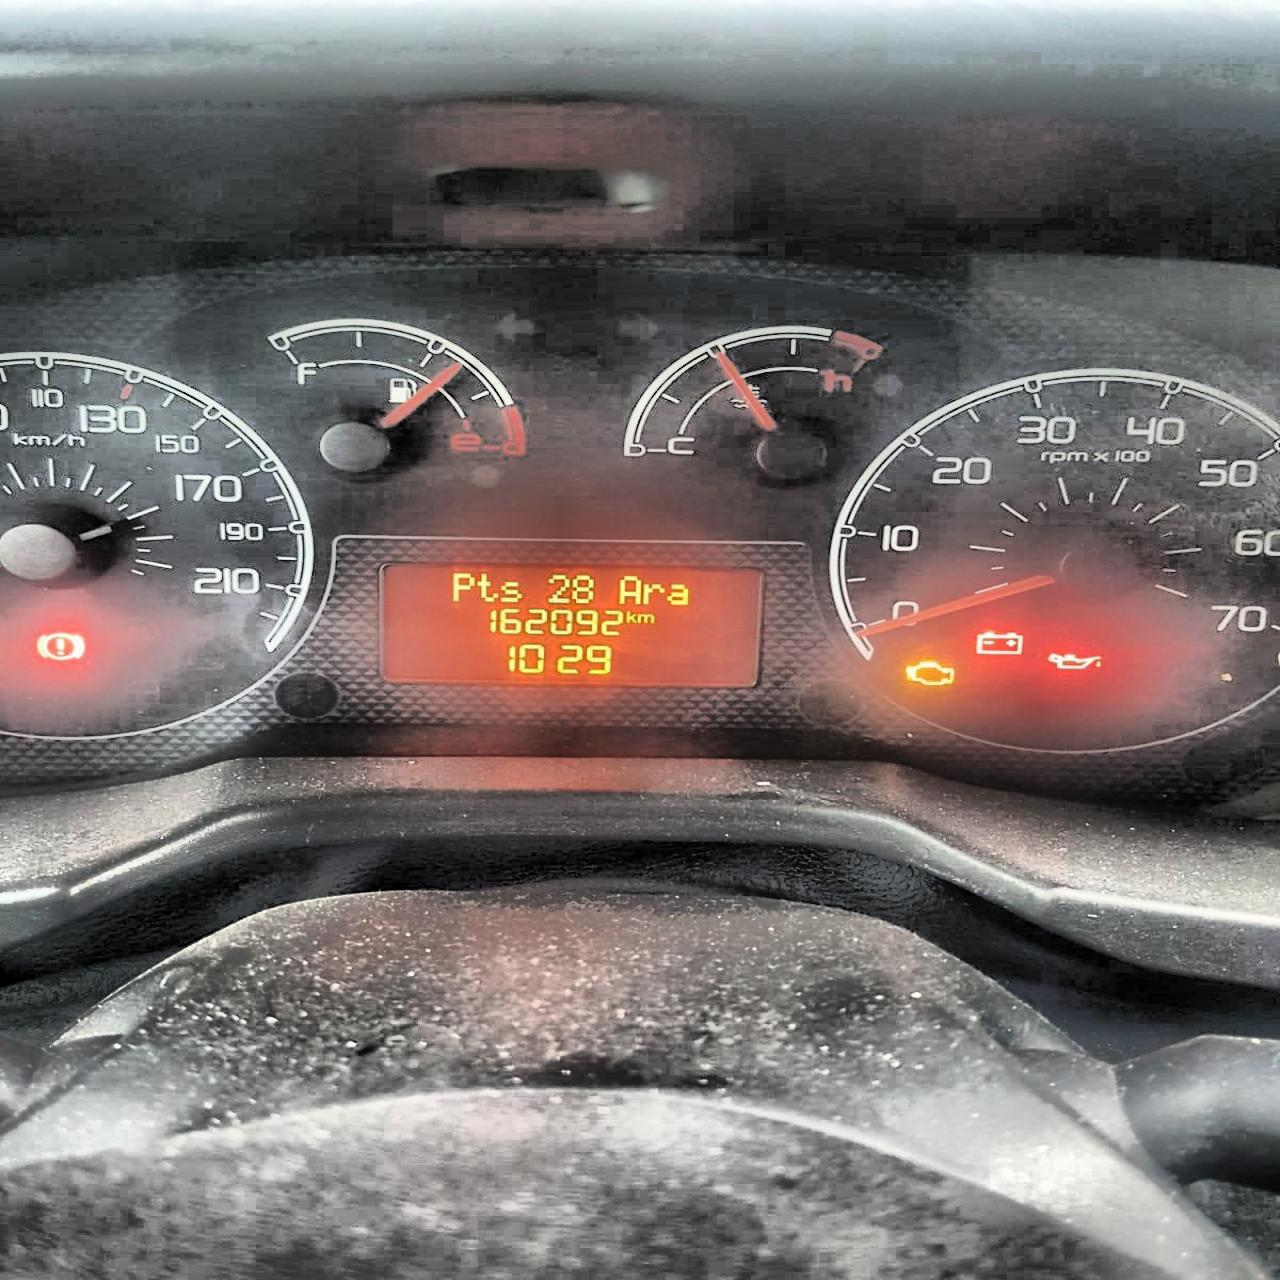0: (517, 642, 544, 674), (549, 608, 572, 635)
1: (505, 644, 516, 674), (488, 607, 497, 634)
2: (554, 642, 584, 675), (545, 571, 570, 602), (524, 607, 546, 634), (601, 608, 621, 636)
6: (499, 606, 523, 633)
8: (571, 572, 597, 604)
9: (585, 642, 611, 674), (573, 607, 598, 635)
X: (475, 570, 499, 602), (617, 574, 641, 606), (451, 571, 474, 601), (667, 581, 690, 606), (499, 578, 522, 602), (642, 583, 666, 605), (636, 611, 655, 622), (625, 610, 635, 625)
odometer: (383, 559, 764, 687)
